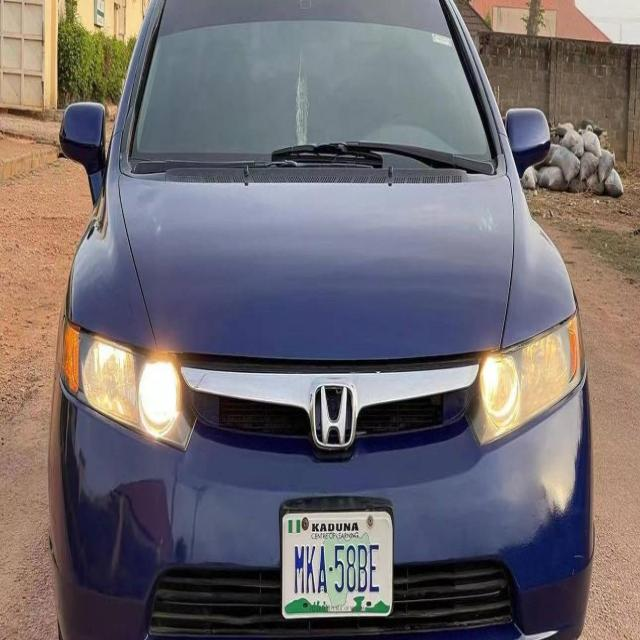Nigerian License Plate - vdataset benjamin-daria: (279, 500, 396, 630)
